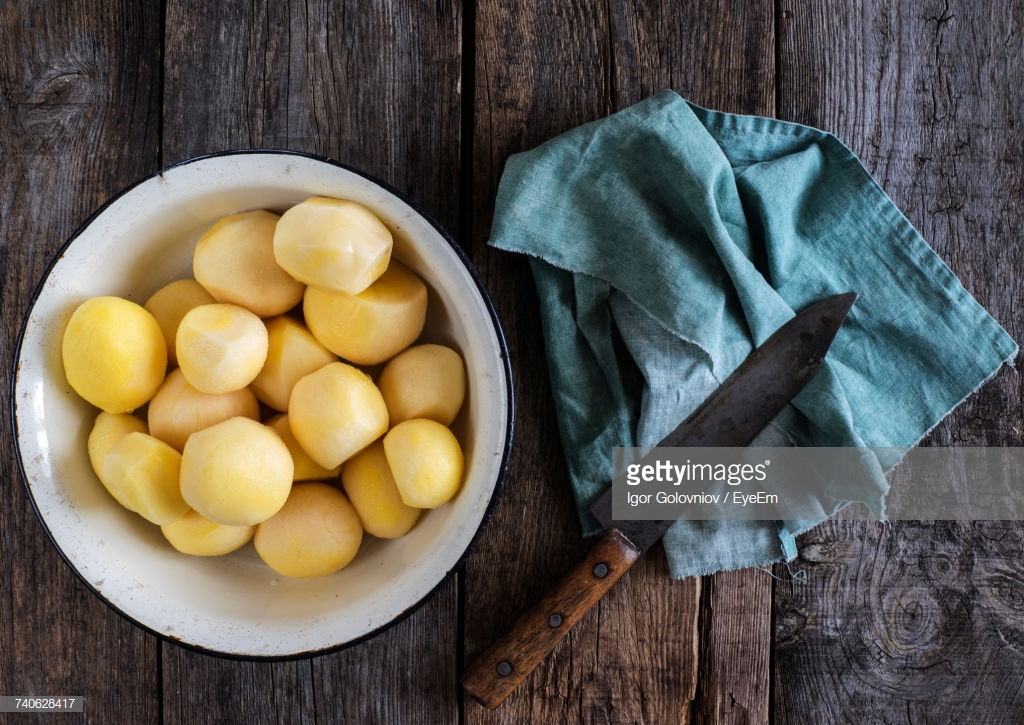boiled potatoes: (78, 287, 452, 528)
